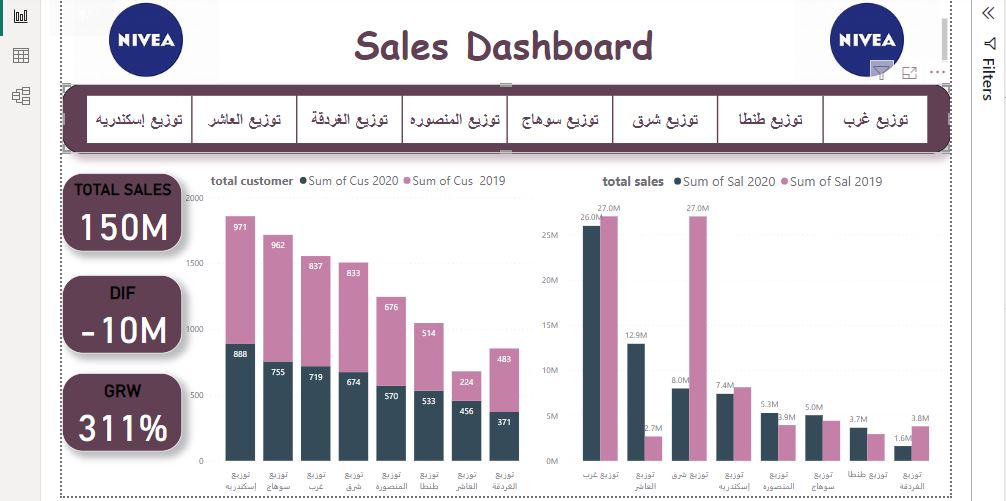

The dashboard page shown, as its layout file describes it:
{"tool":"powerbi","page":{"name":"Page 1","canvas":[1280,720],"ordinal":0},"visuals":[{"type":"slicer","fields":{"Values":["عملاء UCTD.الفرع"]},"box":[0,126.7,1280.2,100],"z":0},{"type":"clusteredColumnChart","fields":{"Category":["بيع UCTD.الفرع"],"Y":["Sum(بيع UCTD.Sal 2020)","Sum(بيع UCTD.Sal 2019)"]},"box":[685.4,243.4,594.7,476.6],"z":1000},{"type":"columnChart","fields":{"Category":["بيع UCTD.الفرع"],"Y":["Sum(عملاء UCTD.Cus 2020)","Sum(عملاء UCTD.Cus  2019)"]},"box":[172.8,243.4,512.6,476.6],"z":2000},{"type":"card","title":"GRW","fields":{"Values":["Sum(بيع UCTD.GRW_24)"]},"box":[0,543.3,172.8,113.4],"z":3000},{"type":"textbox","box":[0,27.4,1280.2,79.2],"z":4000},{"type":"card","title":"DIF","fields":{"Values":["Sum(بيع UCTD.DIF_23)"]},"box":[0,401.9,172.8,113.4],"z":5000},{"type":"card","title":"TOTAL SALES","fields":{"Values":["Sum(بيع UCTD.total sales)"]},"box":[0,254.9,172.8,113.4],"z":6000},{"type":"image","box":[0,0,241.9,126.7],"z":6001},{"type":"image","box":[1038.2,0,241.9,126.7],"z":6002}]}

Visuals, with their boxes on the page's 1280x720 design canvas (x1, y1, x2, y2). These are canvas units, not pixel positions in the 1006x501 screenshot, which may show the page scaled, cropped or inside an application window:
slicer - عملاء UCTD.الفرع: [0, 127, 1280, 227]
clusteredColumnChart - بيع UCTD.الفرع x Sum(بيع UCTD.Sal 2020): [685, 243, 1280, 720]
columnChart - بيع UCTD.الفرع x Sum(عملاء UCTD.Cus 2020): [173, 243, 685, 720]
"GRW" card: [0, 543, 173, 657]
textbox: [0, 27, 1280, 107]
"DIF" card: [0, 402, 173, 515]
"TOTAL SALES" card: [0, 255, 173, 368]
image: [0, 0, 242, 127]
image: [1038, 0, 1280, 127]
